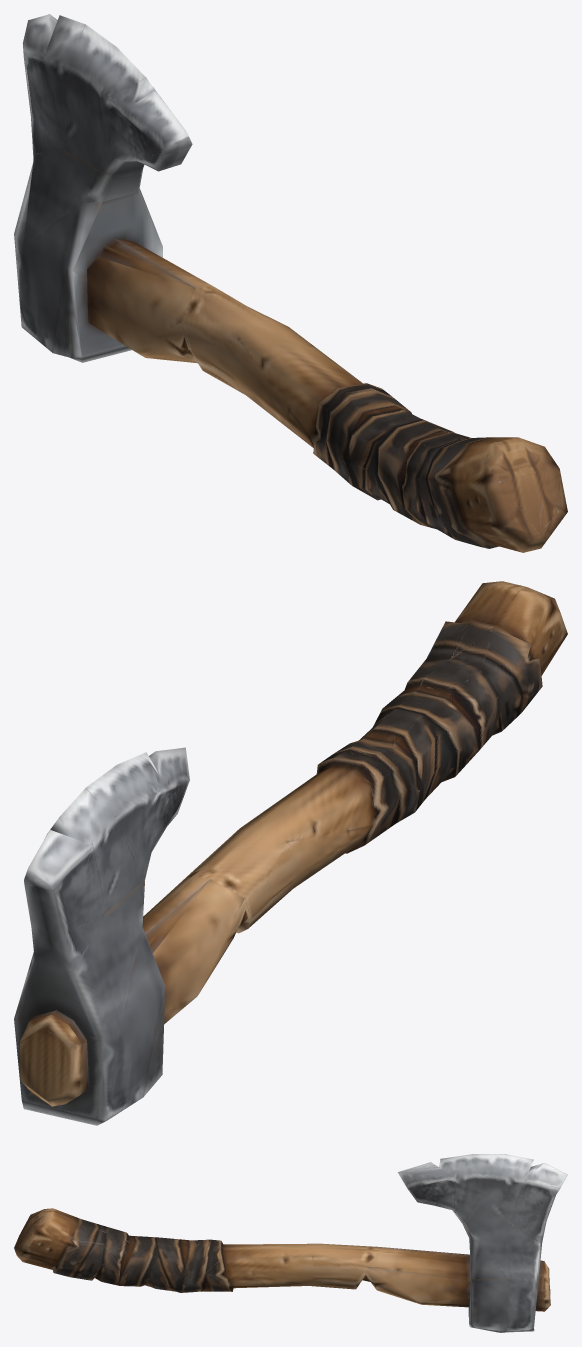
Rendered from weapon_axe.glb.
3 views of the same model, one above another, from view 1: azimuth 30°, elevation 25°; view 2: azimuth 150°, elevation 25°; view 3: azimuth 270°, elevation 25° (orthographic). The views are drawn at different scales.
Size of the model in its own units: 0.0814 by 0.2515 by 0.75.
Materials: 1 (1 with a texture image).
